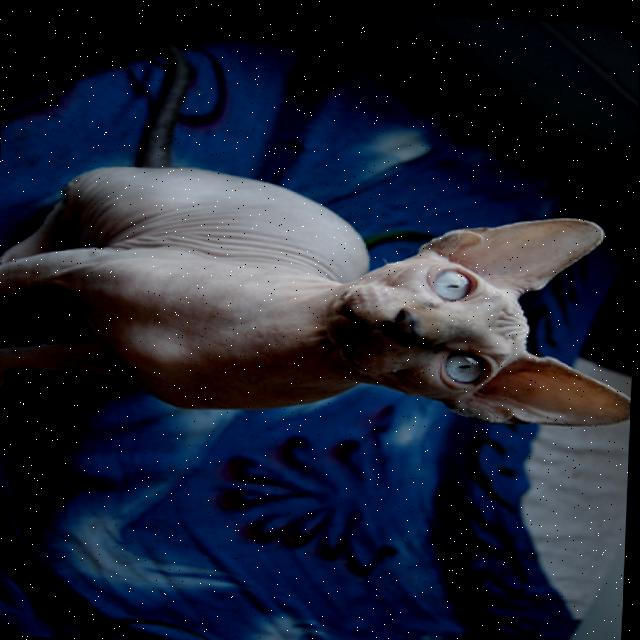Sphynx: (0, 0, 640, 430)
